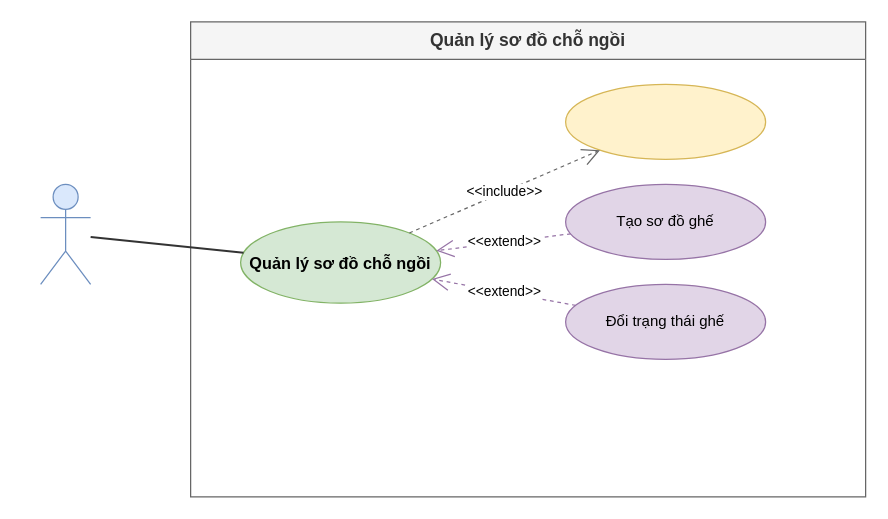
Some shapes in this 888 by 519 pixel diagram are drawn without their labels. The centre of each missing label's shape, as x and y in pixels:
"Ban tổ chức" belongs at (x=65, y=233).
"Xem sơ đồ ghế Canvas" belongs at (x=665, y=121).
